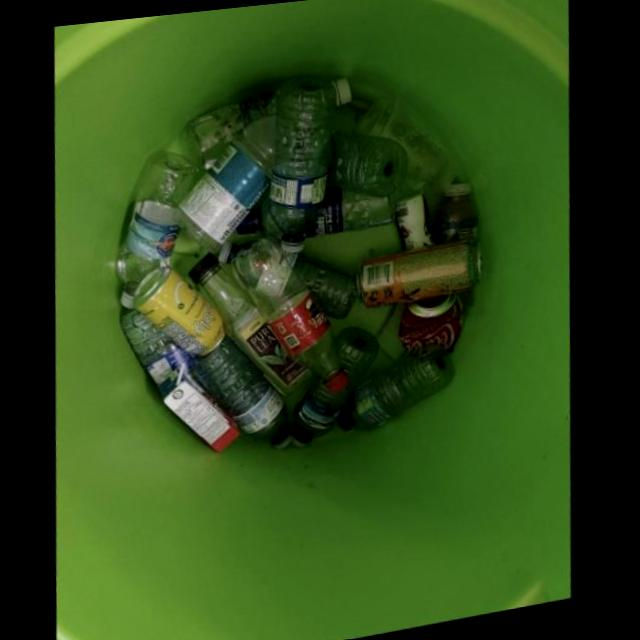chai_nhua: (188, 258, 312, 401), (269, 82, 339, 258), (193, 338, 293, 454), (293, 332, 380, 452), (335, 357, 457, 437), (119, 308, 192, 388), (325, 137, 409, 200), (286, 257, 358, 325), (306, 192, 395, 242), (434, 190, 478, 250)
chai_nhua_pet: (231, 243, 349, 398), (174, 118, 275, 257), (115, 153, 198, 310)
hop_nhua: (358, 103, 459, 204)
nhom: (133, 268, 226, 359), (358, 248, 486, 314), (399, 298, 465, 364), (394, 199, 434, 257)
vo_hop_sua: (158, 372, 240, 456)
